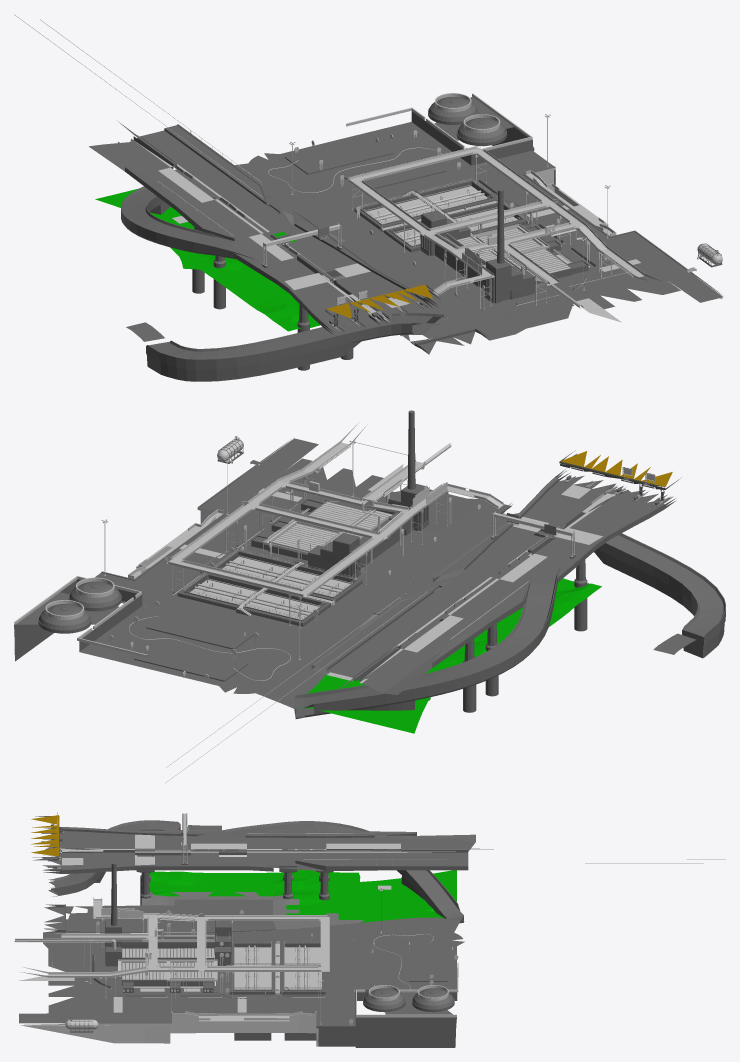
The model's file is bronx_w2_3.FBX.
The picture shows the model from 3 angles, top to bottom: view 1: azimuth 30°, elevation 25°; view 2: azimuth 150°, elevation 25°; view 3: azimuth 270°, elevation 25°; orthographic projection. The views are drawn at different scales.
Visible parts, largest first — view 1: unnamed, null; view 2: unnamed, null; view 3: unnamed, null.
Part boxes in pixels (bbox=[...]): unnamed: bbox=[14, 14, 627, 381]; null: bbox=[448, 152, 723, 309]; unnamed: bbox=[14, 410, 725, 783]; null: bbox=[165, 423, 391, 568]; unnamed: bbox=[14, 812, 725, 1047]; null: bbox=[19, 939, 317, 1043].
Size of the model in its own units: 215 by 65.58 by 305.
